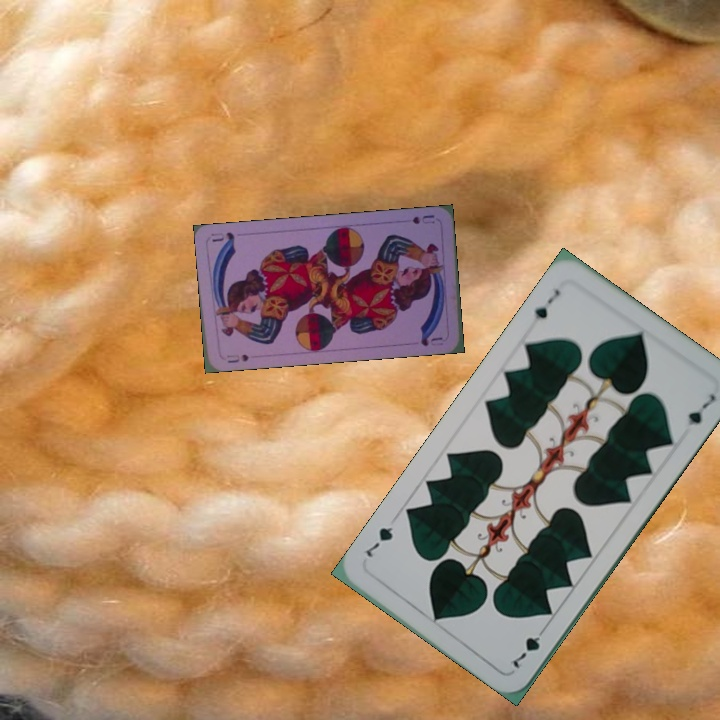G7: (508, 621, 549, 672), (526, 284, 563, 328)
SU: (408, 211, 437, 226), (223, 350, 251, 365)
